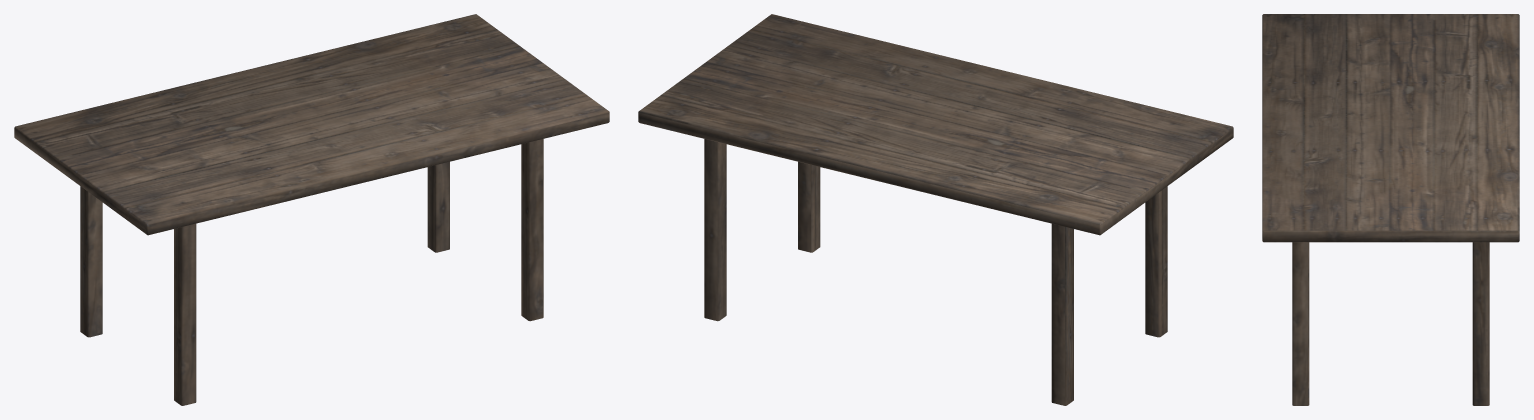
File: table_plain.glb
The picture shows the model from 3 angles, left to right: view 1: azimuth 30°, elevation 25°; view 2: azimuth 150°, elevation 25°; view 3: azimuth 270°, elevation 25°; orthographic projection. The views are drawn at different scales.
Visible parts, largest first — view 1: Table - Rectangular_Wood Planks_0; view 2: Table - Rectangular_Wood Planks_0; view 3: Table - Rectangular_Wood Planks_0.
Part boxes in pixels (box(x1,y1,x2,y2)): Table - Rectangular_Wood Planks_0: box(14, 14, 609, 405); Table - Rectangular_Wood Planks_0: box(638, 14, 1233, 405); Table - Rectangular_Wood Planks_0: box(1262, 14, 1519, 405).
Size of the model in its own units: 0.6205 by 0.2637 by 0.3103.
Materials: 1 (1 with a texture image).
